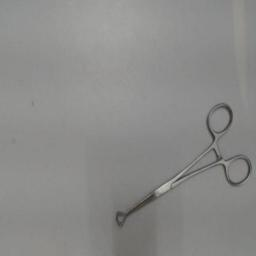Babcock Tissue Forceps: (114, 99, 254, 227)
